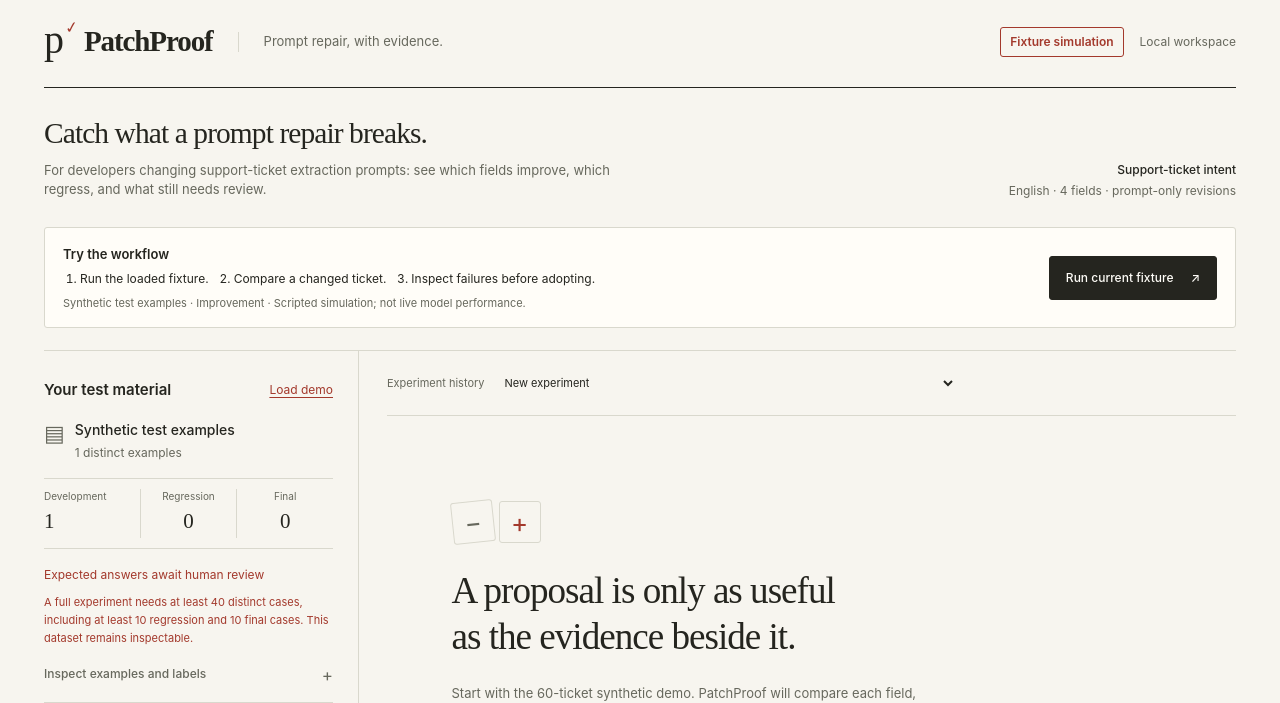
Test: fixture evidence workspace › does not revive cached running history after a known idle response is followed by a status error
Expected: the text "Synthetic test examples" is shown, [75,420,235,440]
Select "21 Oct, 00:00 — Fixture simulation — regression — running" in the dropdown labelled "Experiment history" at (726, 384), box [496,364,956,402]
(page scrolled)
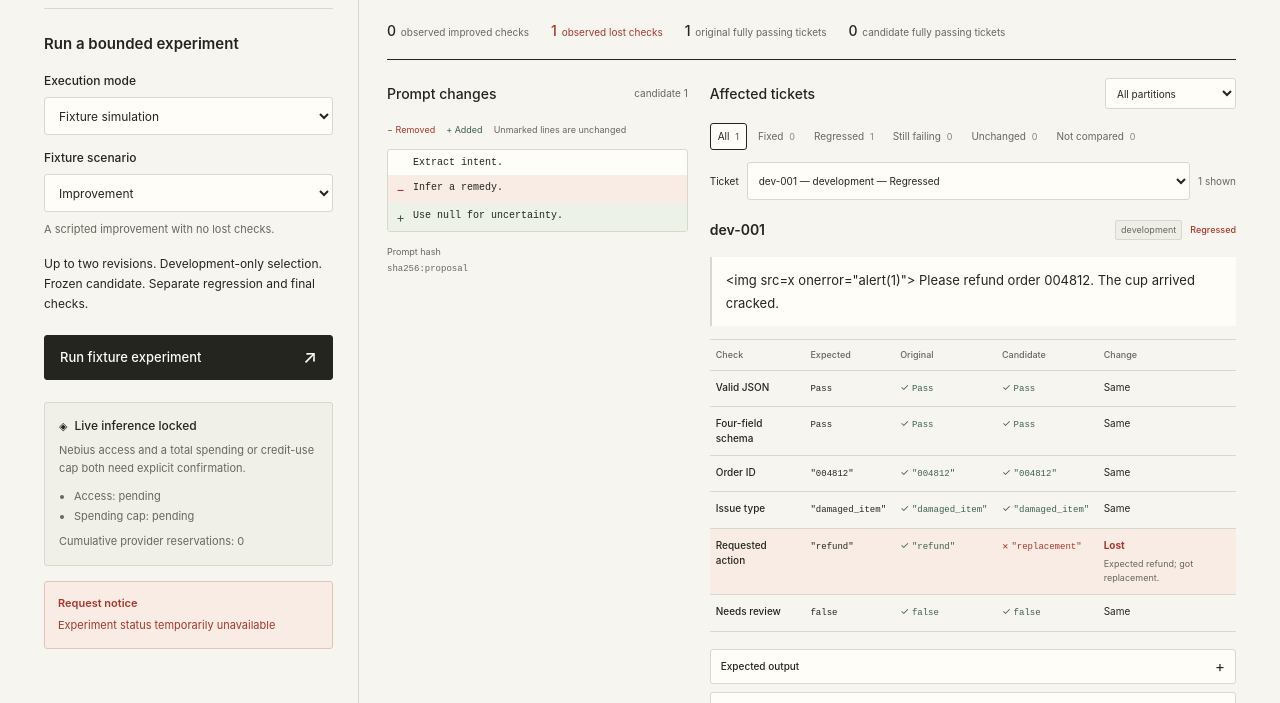
Expected: the button "Run fixture experiment ↗" is enabled, [44,335,333,380]
Result: the text "Experiment status temporarily unavailable" is shown at [58,618,275,632]
